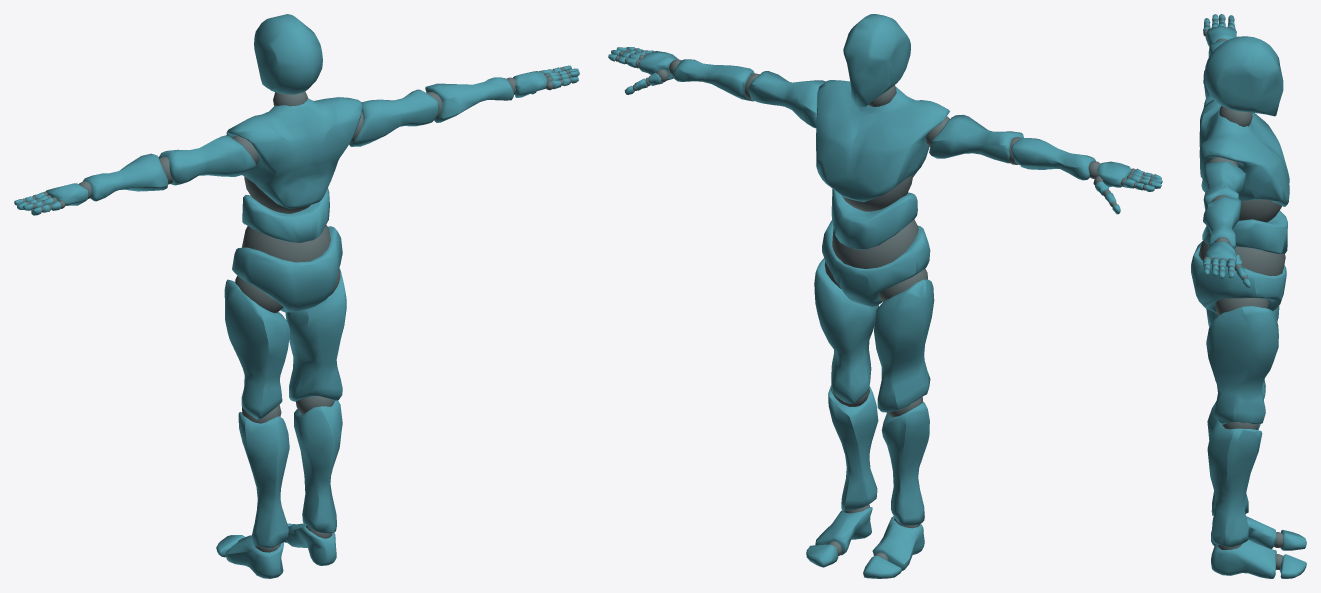
File: ybot_noarm.fbx
The picture shows the model from 3 angles, left to right: view 1: azimuth 30°, elevation 25°; view 2: azimuth 150°, elevation 25°; view 3: azimuth 270°, elevation 25°; orthographic projection. The views are drawn at different scales.
Parts seen in each view (by area): view 1: Alpha_Surface, Alpha_Joints; view 2: Alpha_Surface, Alpha_Joints; view 3: Alpha_Surface, Alpha_Joints.
Part boxes in pixels (x1,y1,x2,y2): Alpha_Surface: [14, 14, 579, 578]; Alpha_Joints: [23, 67, 571, 552]; Alpha_Surface: [608, 14, 1162, 578]; Alpha_Joints: [615, 48, 1153, 560]; Alpha_Surface: [1191, 14, 1306, 578]; Alpha_Joints: [1198, 17, 1285, 569].
Bounding box in the file's own units: 165 × 153 × 30.97.
